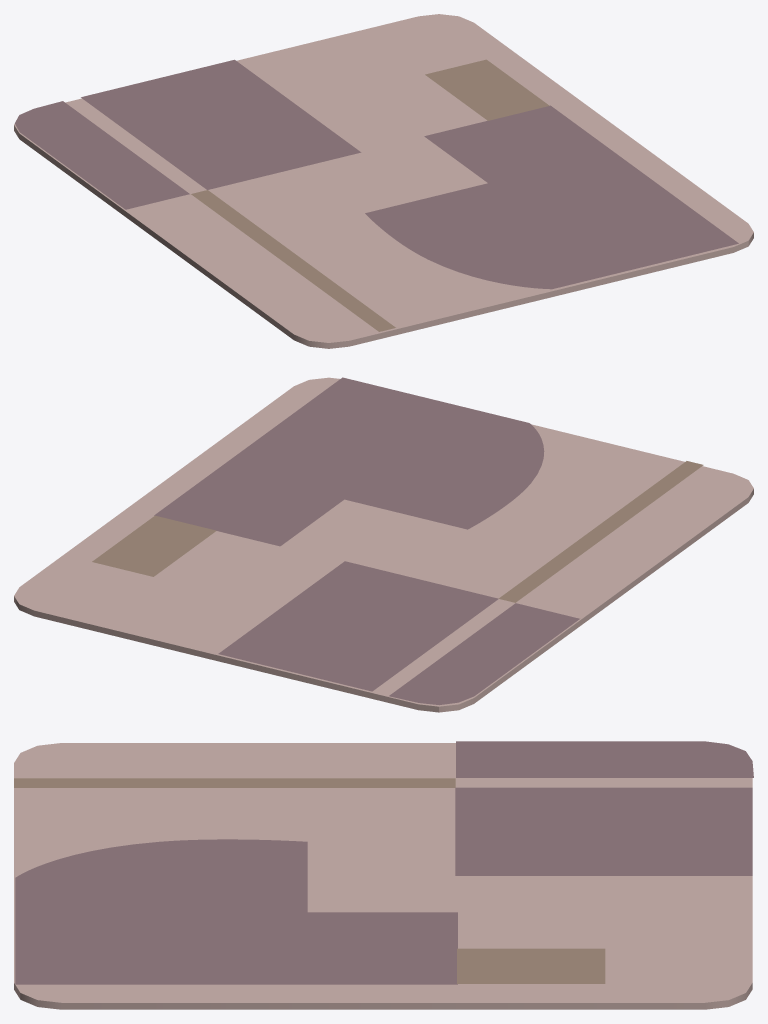
Rendered from kitchen-rug-transformed.glb.
The picture shows the model from 3 angles, top to bottom: view 1: azimuth 30°, elevation 25°; view 2: azimuth 150°, elevation 25°; view 3: azimuth 270°, elevation 25°; orthographic projection. The views are drawn at different scales.
Visible parts, largest first — view 1: Rectangle 12.001, Merged Geometry 10.002, Merged Geometry 11.001; view 2: Rectangle 12.001, Merged Geometry 10.002, Merged Geometry 11.001; view 3: Rectangle 12.001, Merged Geometry 10.002, Merged Geometry 11.001.
Part boxes in pixels (box(x1,y1,x2,y2)): Rectangle 12.001: box(14, 14, 753, 348); Merged Geometry 10.002: box(15, 59, 738, 289); Merged Geometry 11.001: box(191, 59, 549, 331); Rectangle 12.001: box(14, 377, 753, 712); Merged Geometry 10.002: box(154, 377, 579, 705); Merged Geometry 11.001: box(92, 461, 703, 602); Rectangle 12.001: box(14, 743, 752, 1009); Merged Geometry 10.002: box(15, 741, 753, 984); Merged Geometry 11.001: box(14, 778, 605, 983).
Bounding box in the file's own units: 3.23 × 0.05 × 3.89.
